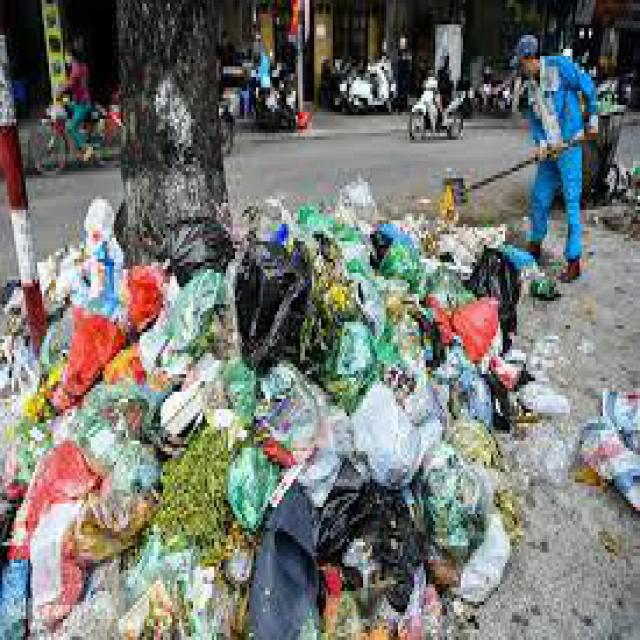garbage: (5, 168, 549, 636)
